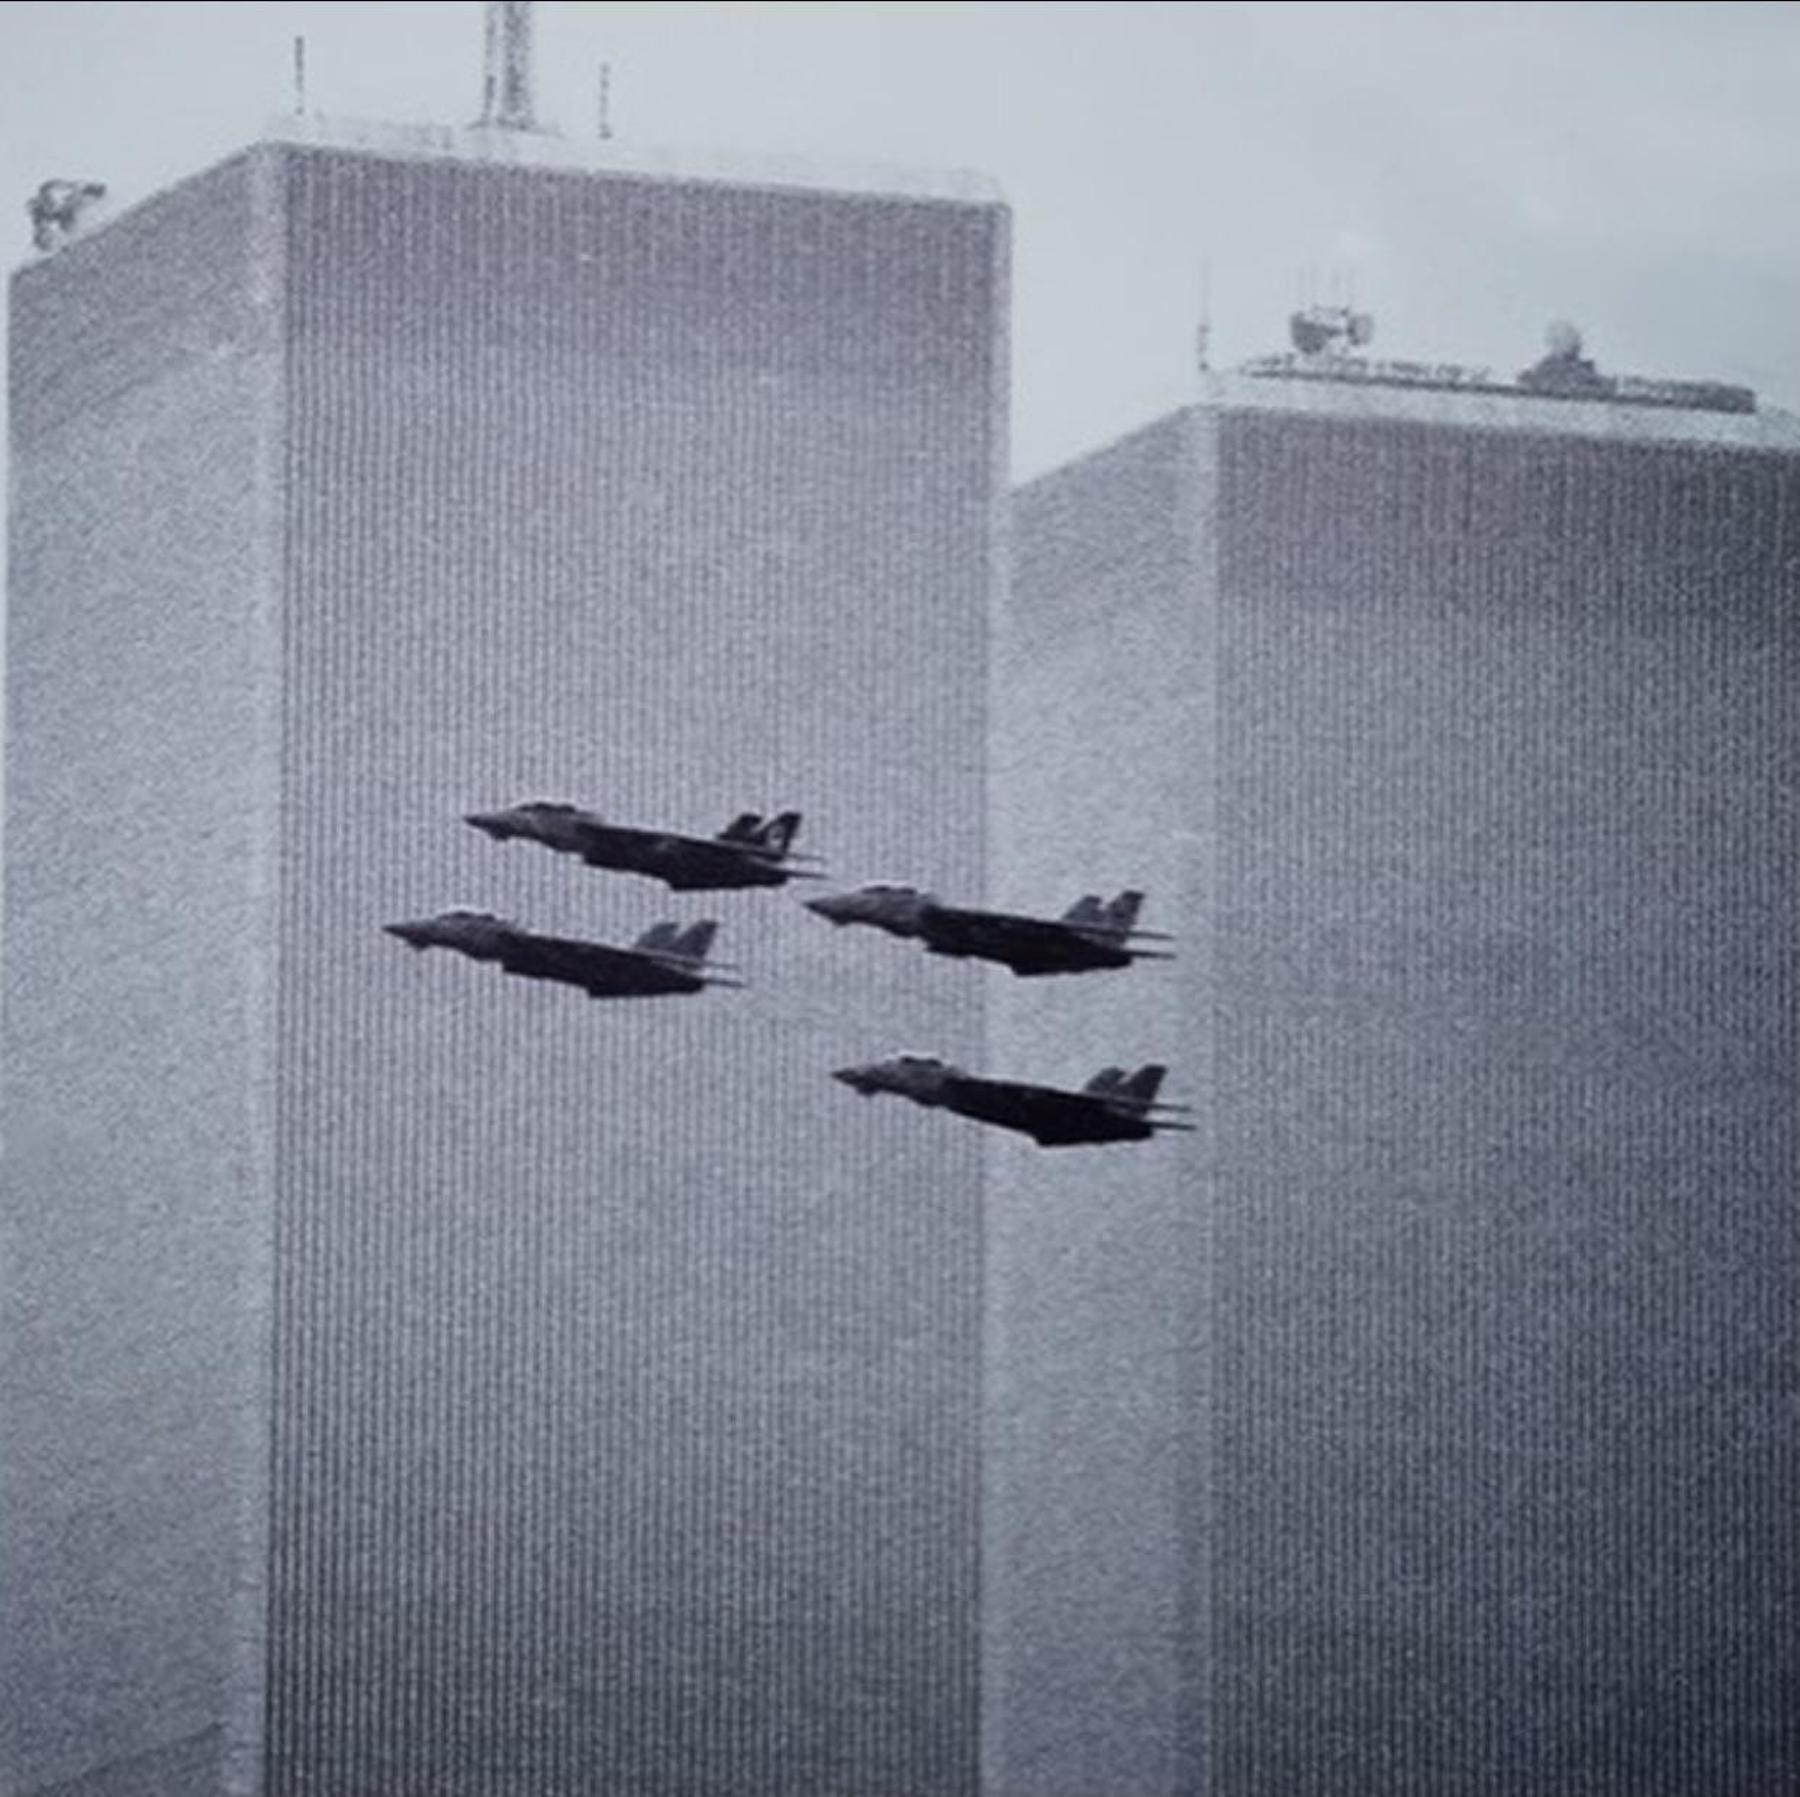F14: (801, 880, 1180, 979), (828, 1053, 1201, 1149), (461, 800, 833, 894), (378, 907, 749, 1001)
